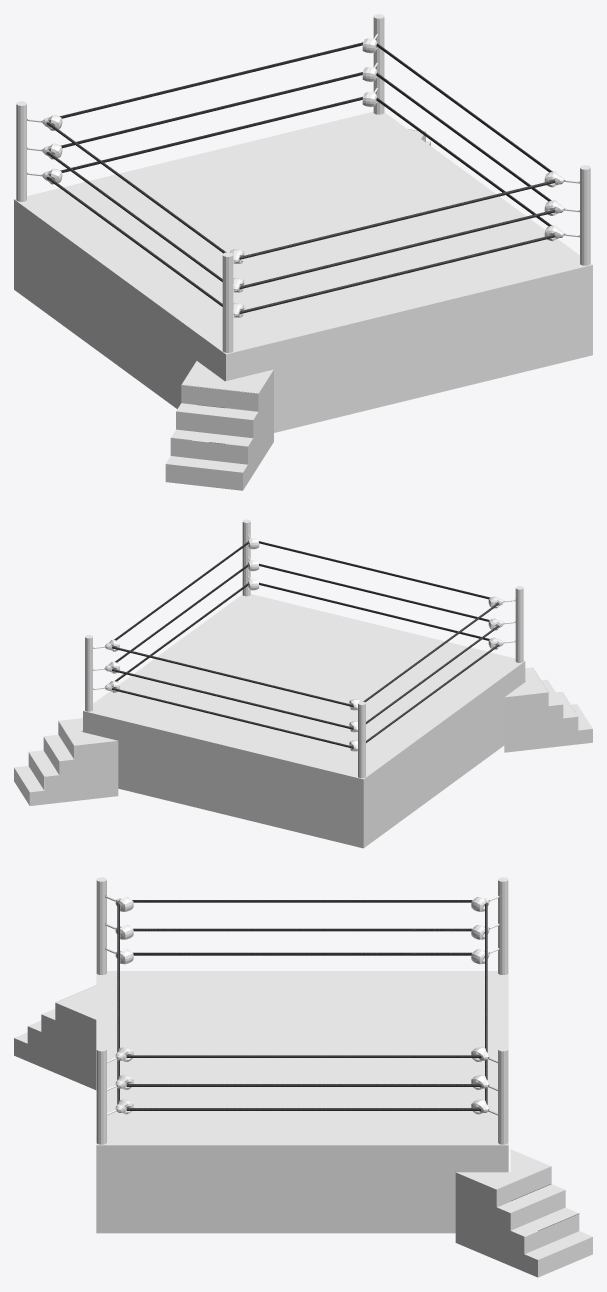
The model's file is ring-with-steps.glb.
3 renders of one model, top to bottom at view 1: azimuth 30°, elevation 25°; view 2: azimuth 150°, elevation 25°; view 3: azimuth 270°, elevation 25°, orthographic. The views are drawn at different scales.
Parts seen in each view (by area): view 1: canvas, apron-south, apron-west, ring-steps, ring-post-sw, rope-south-top, rope-south-bottom, rope-south-middle, rope-north-top, rope-north-middle, ring-post-nw, ring-post-se (+8 smaller); view 2: canvas, apron-north, apron-west, ring-steps.001, ring-steps, rope-north-top, rope-north-middle, rope-north-bottom, rope-south-top, ring-post-sw, rope-south-middle, rope-south-bottom (+8 smaller); view 3: canvas, apron-east, ring-steps.001, ring-steps, rope-west-bottom, rope-west-middle, ring-post-se, ring-post-ne, rope-east-top, rope-east-middle, rope-east-bottom, ring-post-nw (+2 smaller).
Boxes of the visible parts, x1,y1,x2,y2 form: canvas: [14, 111, 592, 354]; apron-south: [226, 265, 592, 444]; apron-west: [14, 199, 225, 408]; ring-steps: [165, 361, 273, 490]; ring-post-sw: [222, 252, 233, 352]; rope-south-top: [239, 180, 555, 259]; rope-south-bottom: [239, 234, 555, 313]; rope-south-middle: [239, 209, 555, 289]; rope-north-top: [59, 42, 363, 118]; rope-north-middle: [61, 72, 362, 148]; ring-post-nw: [16, 101, 26, 201]; ring-post-se: [580, 165, 590, 265]; canvas: [83, 594, 524, 779]; apron-north: [83, 711, 363, 848]; apron-west: [363, 661, 525, 847]; ring-steps.001: [14, 718, 118, 805]; ring-steps: [504, 667, 592, 752]; rope-north-top: [112, 646, 353, 706]; rope-north-middle: [112, 669, 353, 729]; rope-north-bottom: [112, 688, 353, 748]; rope-south-top: [258, 541, 490, 599]; ring-post-sw: [515, 586, 523, 662]; rope-south-middle: [259, 563, 489, 621]; rope-south-bottom: [259, 582, 489, 640]; canvas: [96, 971, 508, 1145]; apron-east: [96, 1145, 508, 1233]; ring-steps.001: [455, 1149, 592, 1277]; ring-steps: [14, 985, 96, 1089]; rope-west-bottom: [133, 952, 471, 955]; rope-west-middle: [133, 928, 471, 931]; ring-post-se: [96, 1047, 106, 1144]; ring-post-ne: [498, 1047, 508, 1144]; rope-east-top: [126, 1055, 481, 1057]; rope-east-middle: [126, 1084, 481, 1086]; rope-east-bottom: [126, 1108, 481, 1110]; ring-post-nw: [498, 877, 508, 974].
Size of the model in its own units: 9.55 by 3.46 by 9.53.
12 materials, 5 textured.
